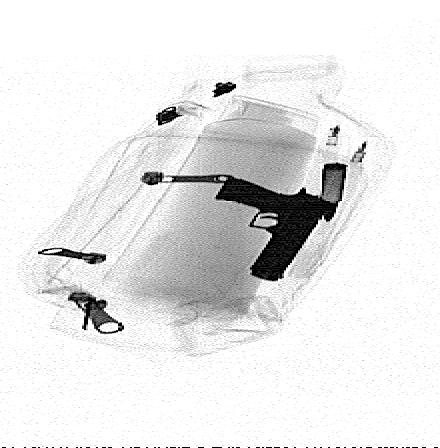Bullet: (319, 164, 345, 223)
Gun: (213, 174, 333, 282)
